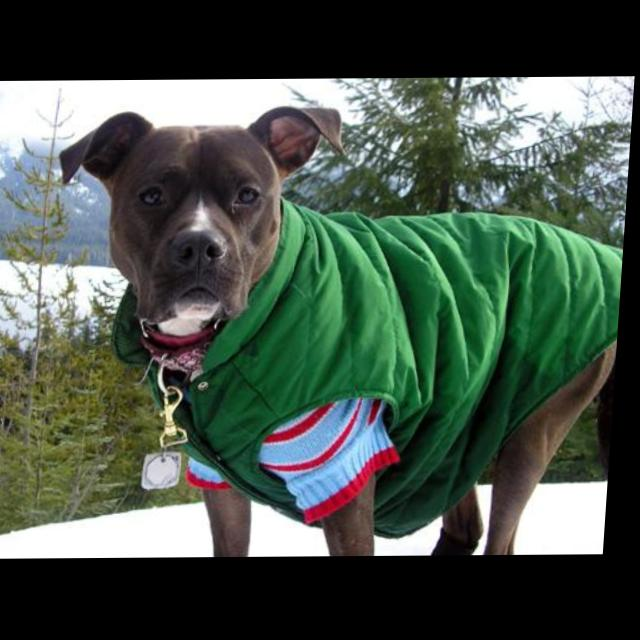amstaff: (42, 104, 635, 560)
